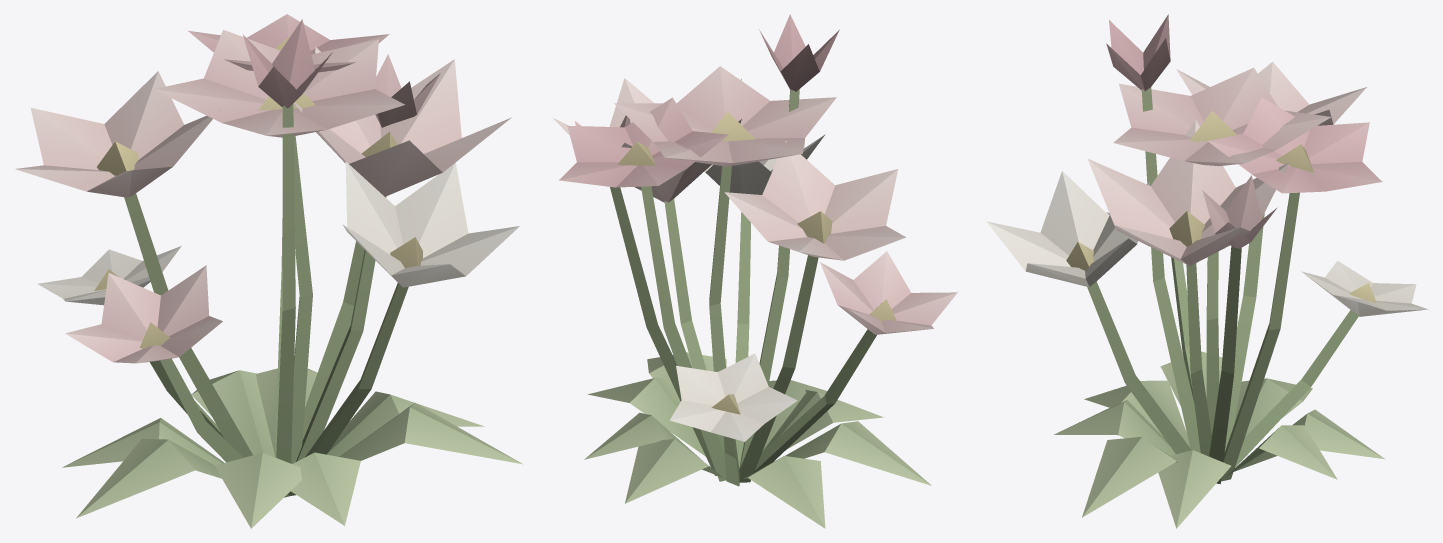
Rendered from flower-cluster-a.glb.
The picture shows the model from 3 angles, left to right: view 1: azimuth 30°, elevation 25°; view 2: azimuth 150°, elevation 25°; view 3: azimuth 270°, elevation 25°; orthographic projection. The views are drawn at different scales.
Parts seen in each view (by area): view 1: flower-cluster-a; view 2: flower-cluster-a; view 3: flower-cluster-a.
Boxes of the visible parts, x1,y1,x2,y2 form: flower-cluster-a: [15, 14, 522, 528]; flower-cluster-a: [553, 14, 957, 528]; flower-cluster-a: [986, 14, 1428, 528].
Bounding box in the file's own units: 0.3065 × 0.3409 × 0.3121.
